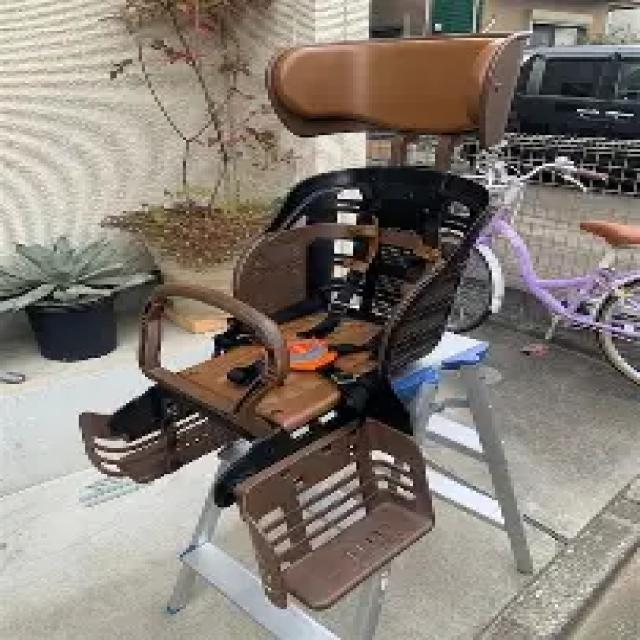childseat: (75, 27, 536, 594)
